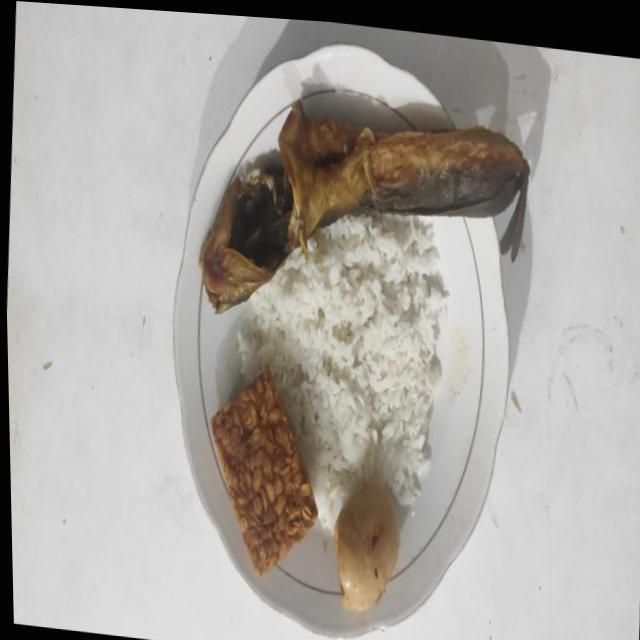nasi_putih: (239, 212, 449, 531)
tempe_goreng: (212, 369, 318, 576)
